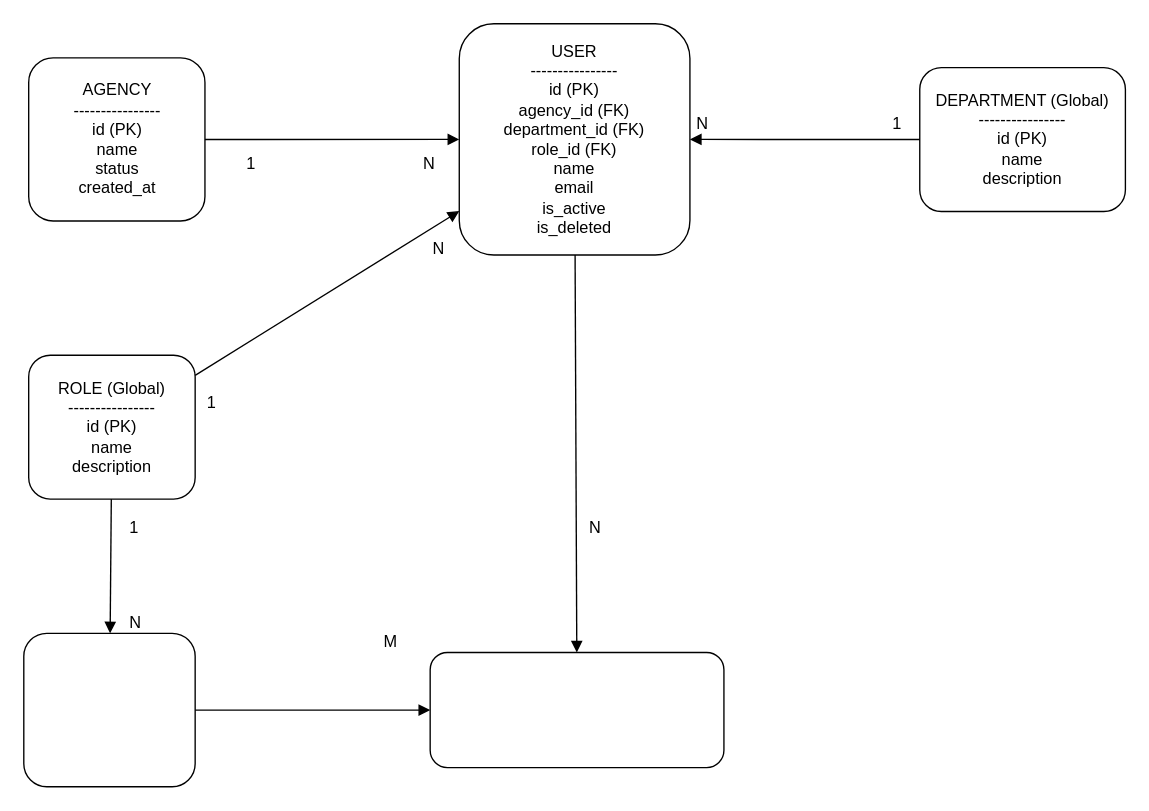
The diagram is 1149 pixels wide and 811 high, and some of its shapes have lost their labels. The centre of each missing label's shape, as x and y in pixels:
ROLE_PERMISSION ---------------- id (PK) role_id (FK) code description: (x=108, y=709)
USER_PERMISSION ---------------- user_id (PK, FK) role_permission_id (PK, FK): (x=576, y=709)
